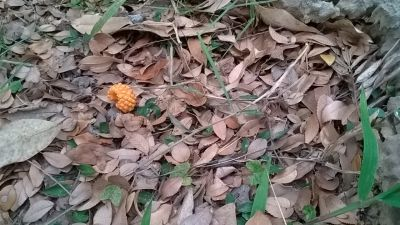eggs: (108, 81, 138, 114)
